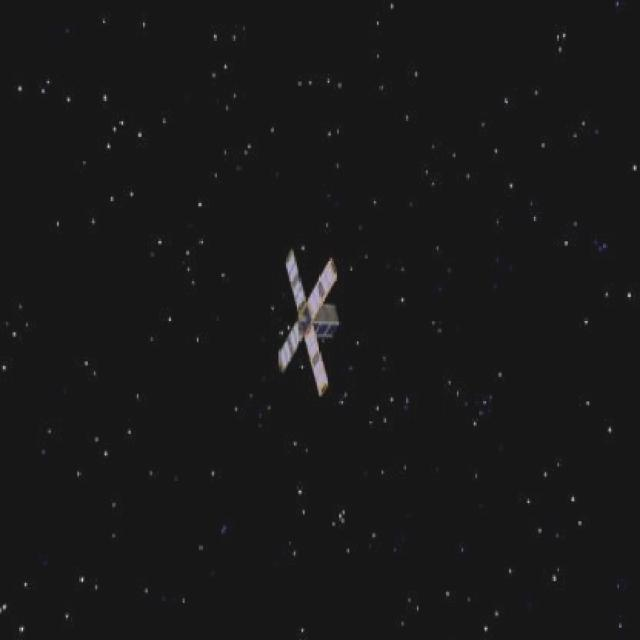satellite: (255, 256, 353, 392)
